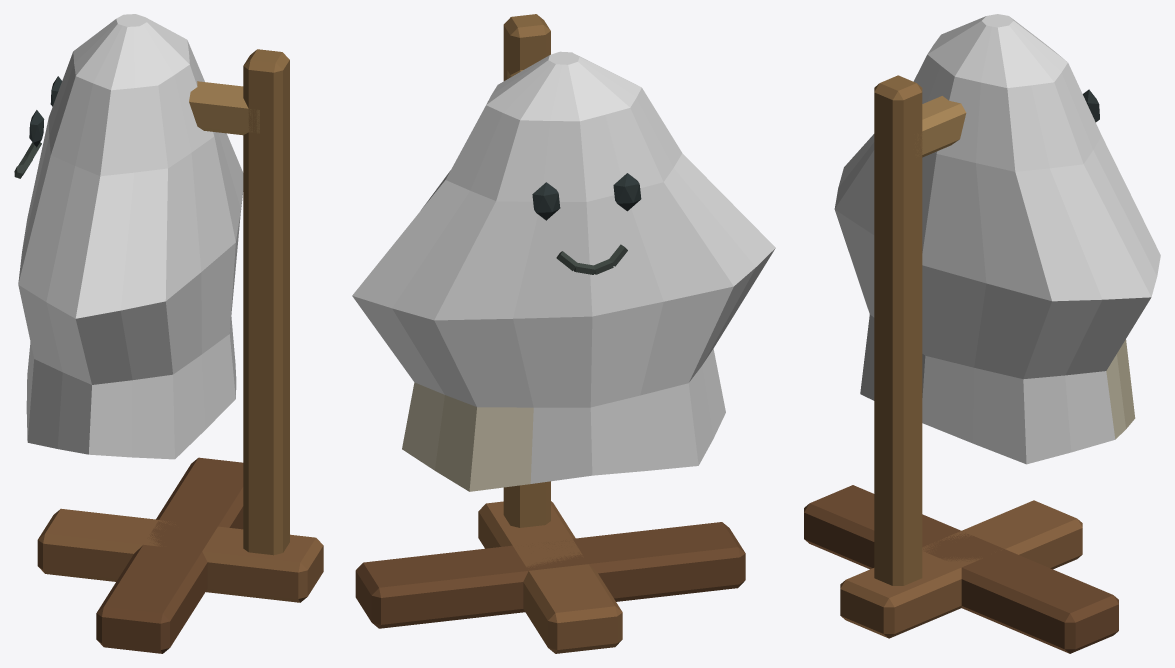
File: FriendlyGhost.glb
3 renders of one model, left to right at view 1: azimuth 30°, elevation 25°; view 2: azimuth 150°, elevation 25°; view 3: azimuth 270°, elevation 25°, orthographic.
Visible parts, largest first — view 1: FriendlyGhost_Arrangement; view 2: FriendlyGhost_Arrangement; view 3: FriendlyGhost_Arrangement.
Part boxes in pixels (<box>): FriendlyGhost_Arrangement: <box>14,14,323,653</box>; FriendlyGhost_Arrangement: <box>352,14,775,653</box>; FriendlyGhost_Arrangement: <box>804,14,1160,653</box>.
Bounding box in the file's own units: 0.5576 × 0.955 × 0.5576.
